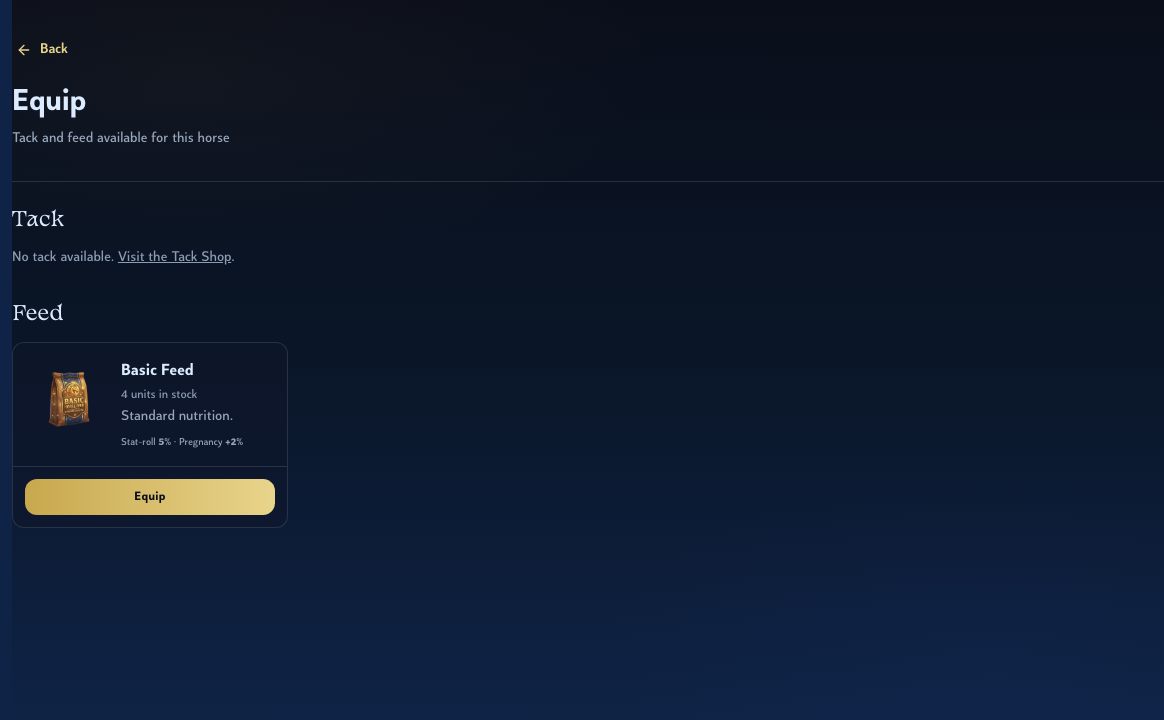
Test case: HorseEquipPage — failed equip (Equoria-mr1kq) › shows mapped copy for a server fault
Click the button with test id "equip-feed-basic".
click(150, 497)  # box [25,479,275,515]
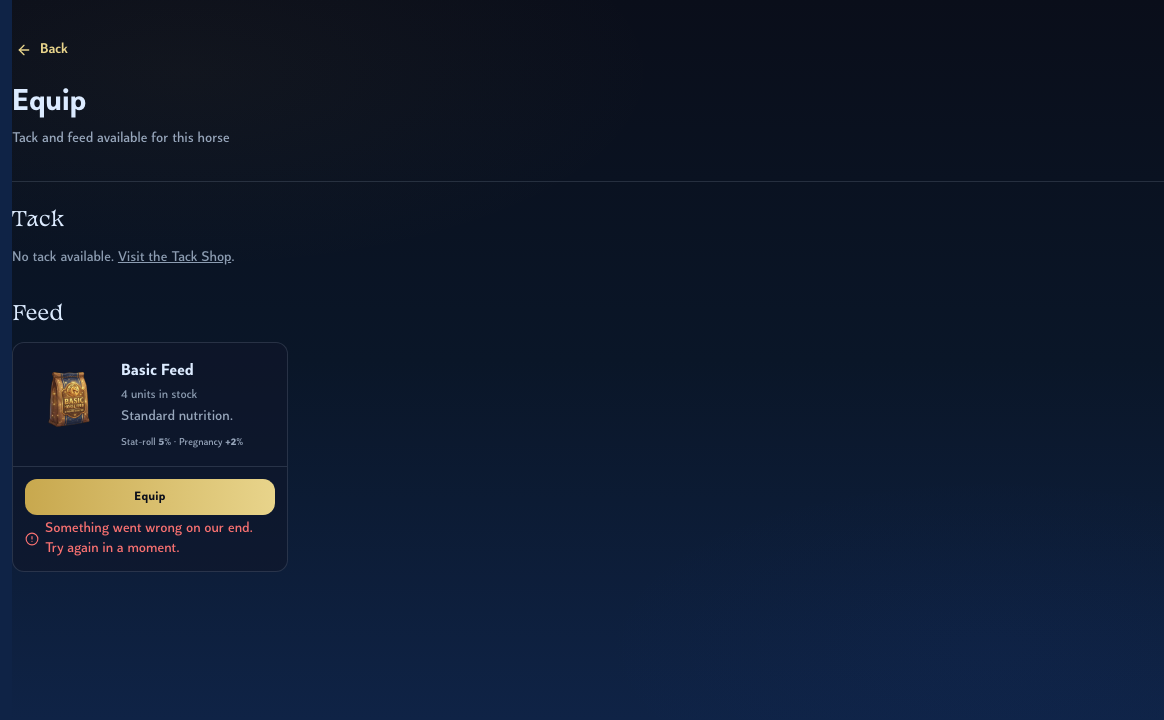
Now the text "Something went wrong on our end. Try again in a moment." is shown, box [45,519,275,559]
